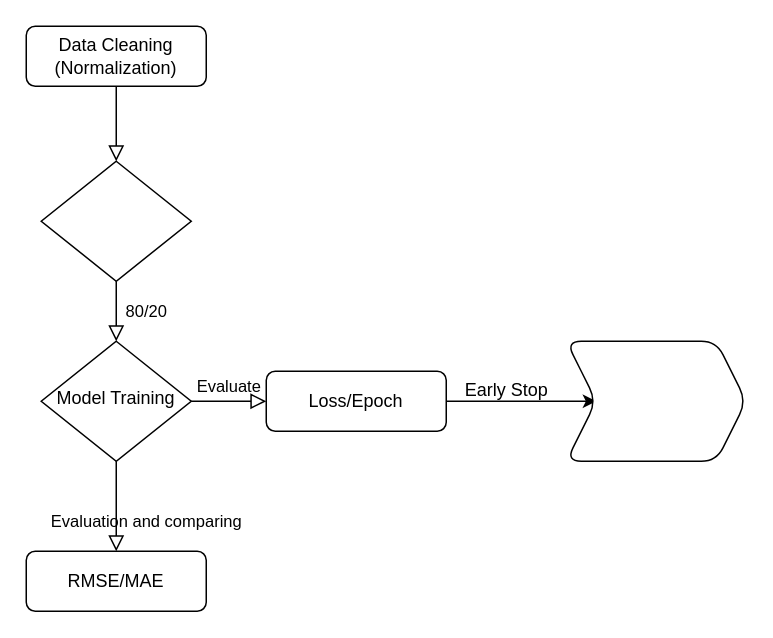
Image size: 773x638. Some labels were removed from this diagram. Each missing label, with the box of its shape:
Prevention of Overfitting: (565, 340, 746, 461)
Train/Test Split: (40, 160, 191, 281)
